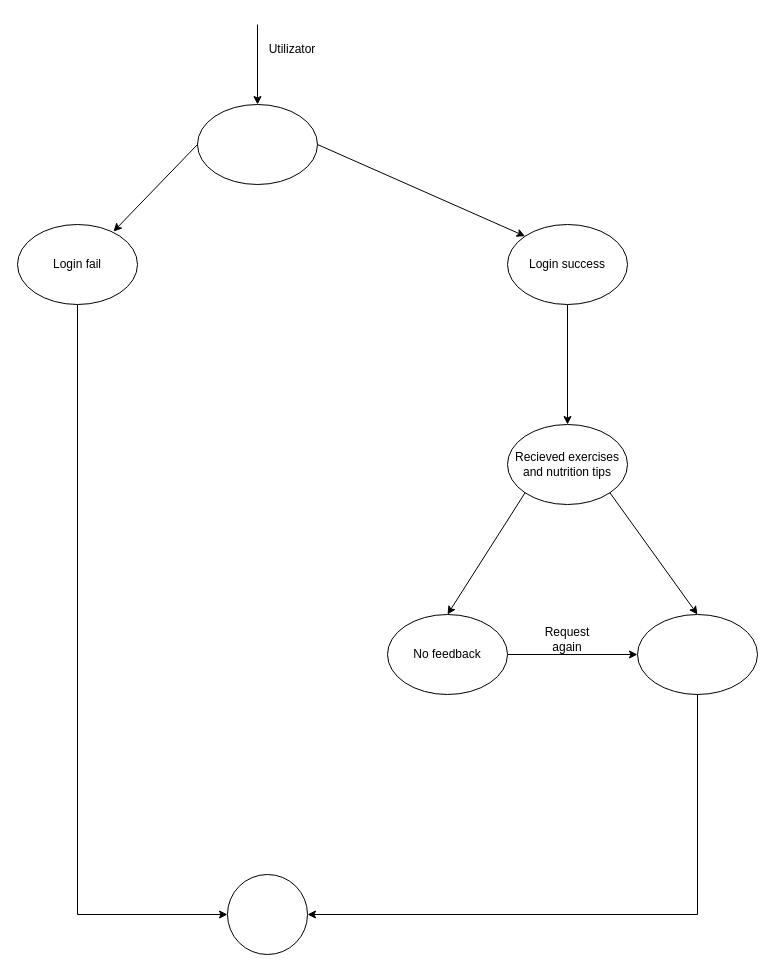
Image size: 775x972. Some labels were removed from this diagram. The shapes that lost their labels are listed below. From the top down, each one's centre as x and y in pixels, then its label:
At (257,144): "Login".
At (697,654): "Feedback sent".
